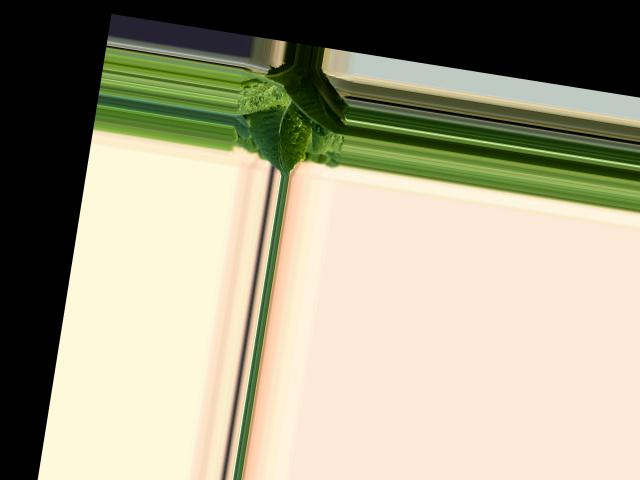lettuce: (239, 57, 352, 173)
